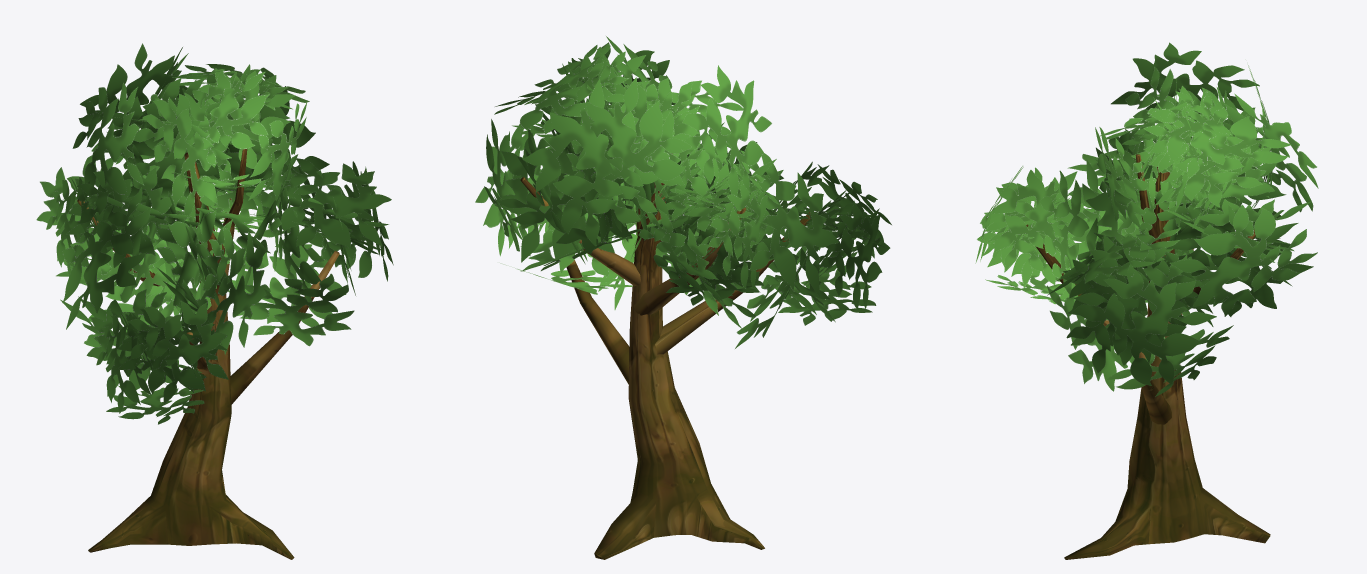
The model's file is Tree 2.fbx.
3 views of the same model, side by side, from view 1: azimuth 30°, elevation 25°; view 2: azimuth 150°, elevation 25°; view 3: azimuth 270°, elevation 25° (orthographic). The views are drawn at different scales.
Parts seen in each view (by area): view 1: Tree 2; view 2: Tree 2; view 3: Tree 2.
Part boxes in pixels (box(x1,y1,x2,y2)): Tree 2: box(36, 43, 393, 559); Tree 2: box(475, 36, 891, 559); Tree 2: box(975, 42, 1318, 559).
Size of the model in its own units: 2986 by 3816 by 2798.
